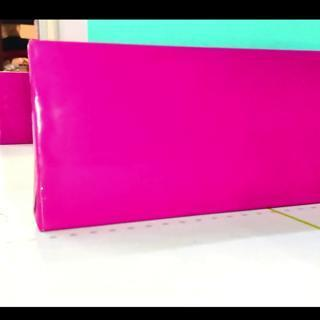xparking: (39, 51, 320, 232), (3, 77, 30, 146)
